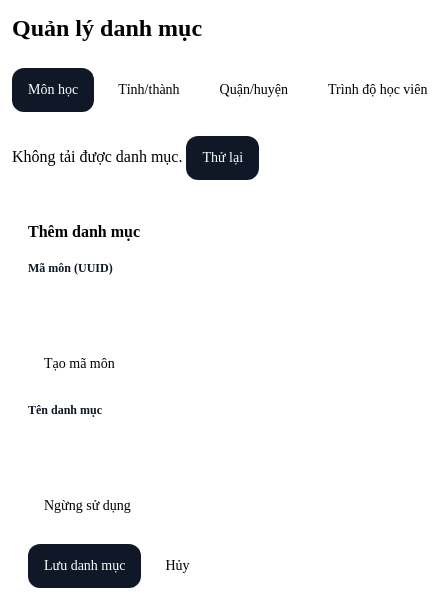
shows empty data and actionable load failure
Expected: the message shows "Không tải được", [12, 148, 186, 165]
Click the button "Thử lại": (223, 158) [186, 136, 259, 180]
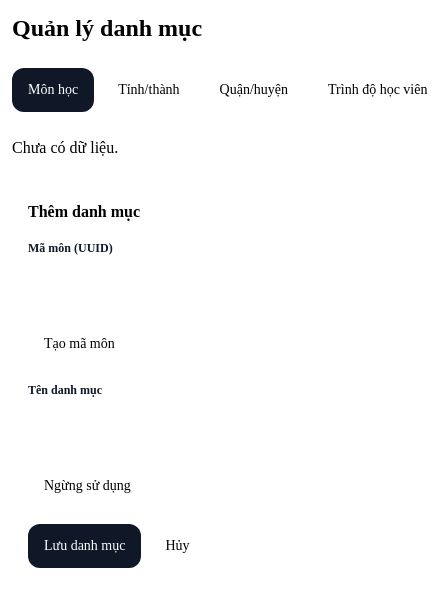
Expected: the text "Chưa có dữ liệu." is shown, [12, 139, 118, 156]
